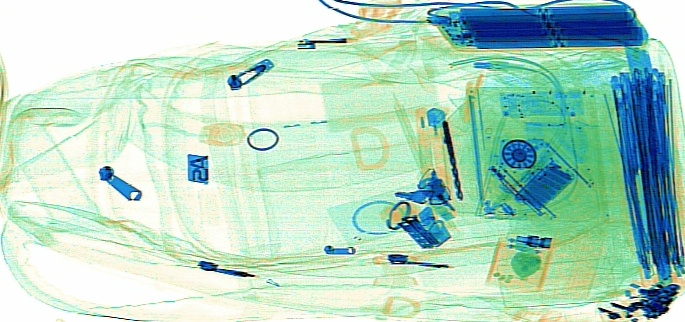lighter: (411, 105, 457, 201)
powerbank: (426, 1, 650, 53)
